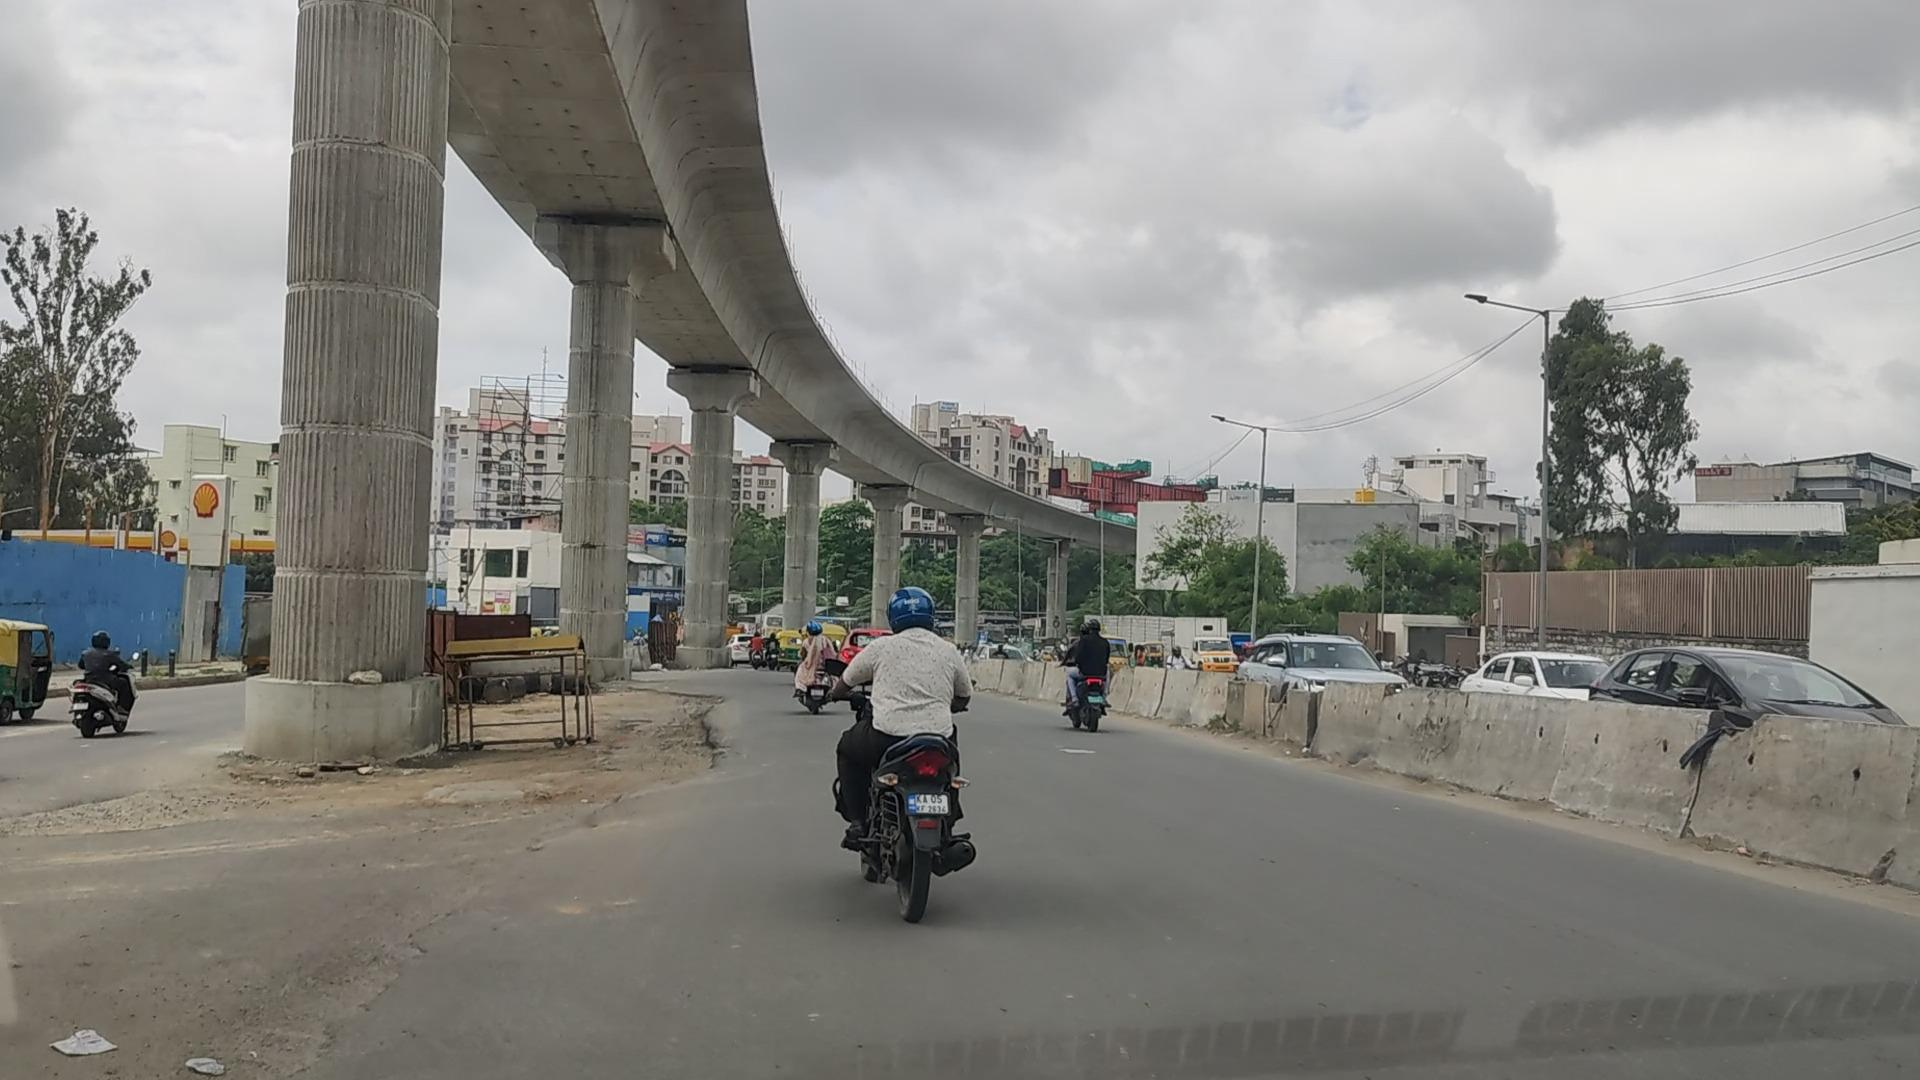LMV: (852, 592, 973, 902), (74, 638, 136, 736), (1068, 620, 1112, 727), (794, 622, 828, 705)
RoadDamages: (297, 818, 593, 1079), (24, 758, 560, 848), (604, 674, 736, 824)
